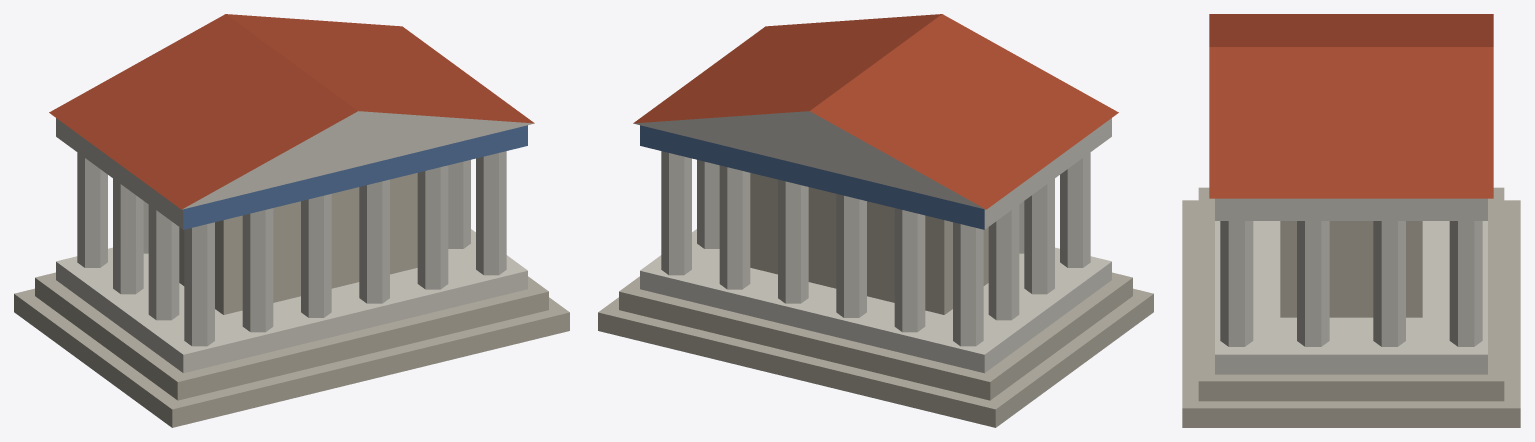
The model's file is temple.glb.
3 views of the same model, side by side, from view 1: azimuth 30°, elevation 25°; view 2: azimuth 150°, elevation 25°; view 3: azimuth 270°, elevation 25° (orthographic). The views are drawn at different scales.
Visible parts, largest first — view 1: roof, step3, step1, step2, cella, beam, column5, column2, column1, column6, column3, column4 (+4 smaller); view 2: roof, step3, step1, step2, cella, beam, column11, column8, column7, column12, column9, column10 (+4 smaller); view 3: roof, step3, step1, step2, cella, beam, column1, column7, column13, column14.
Boxes of the visible parts, box(x1,y1,x2,y2) form: roof: box(49, 14, 534, 209); step3: box(56, 229, 527, 373); step1: box(14, 288, 569, 427); step2: box(35, 272, 548, 400); cella: box(179, 173, 417, 314); beam: box(56, 118, 527, 229); column5: box(242, 208, 273, 332); column2: box(417, 165, 448, 289); column1: box(476, 151, 506, 275); column6: box(184, 222, 214, 346); column3: box(359, 179, 389, 303); column4: box(301, 194, 331, 317); roof: box(633, 14, 1118, 209); step3: box(640, 229, 1111, 373); step1: box(598, 288, 1153, 427); step2: box(619, 272, 1132, 400); cella: box(750, 173, 988, 314); beam: box(640, 118, 1111, 229); column11: box(894, 208, 925, 332); column8: box(719, 165, 750, 289); column7: box(661, 151, 691, 275); column12: box(953, 222, 983, 346); column9: box(778, 179, 808, 303); column10: box(836, 194, 866, 317); roof: box(1209, 14, 1493, 198); step3: box(1215, 221, 1487, 374); step1: box(1182, 200, 1520, 427); step2: box(1198, 187, 1504, 401); cella: box(1280, 221, 1422, 317); beam: box(1215, 198, 1487, 220); column1: box(1220, 221, 1253, 346); column7: box(1449, 221, 1482, 346); column13: box(1373, 221, 1405, 346); column14: box(1297, 221, 1329, 346).
Size of the model in its own units: 0.9 by 0.56 by 0.62.
